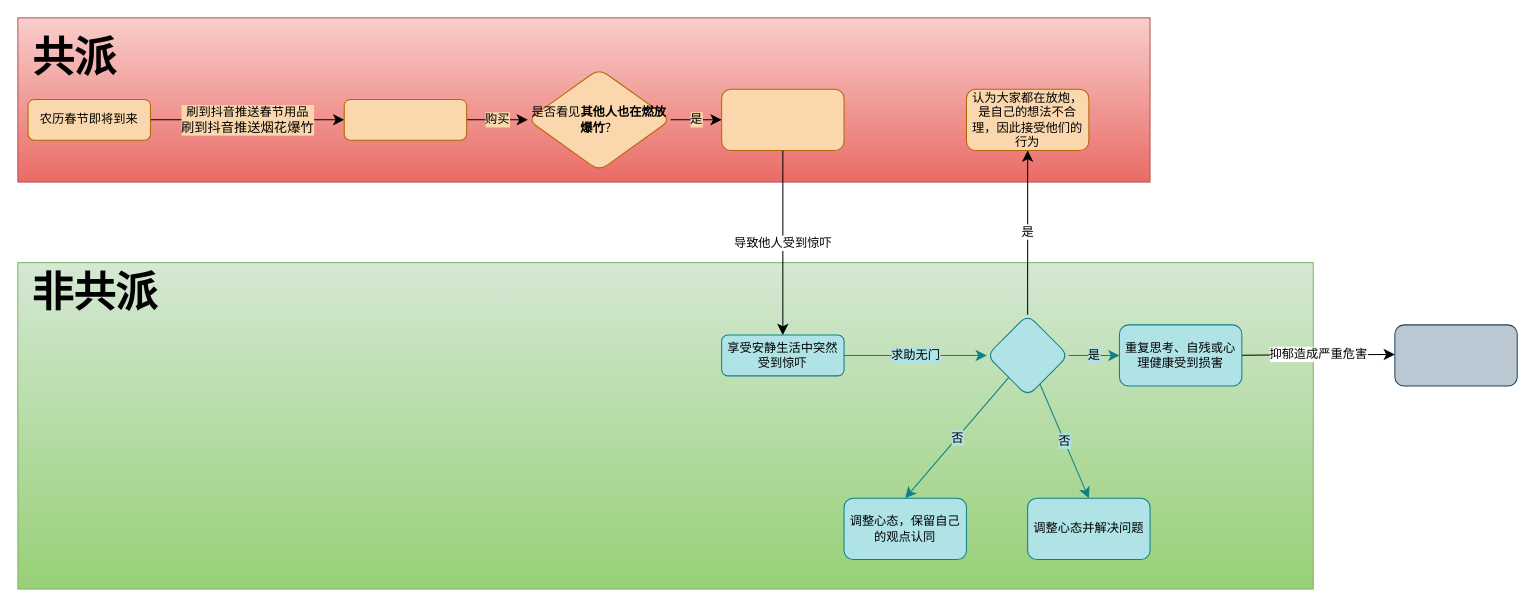
Image size: 1535x607. Some labels were removed from this diagram. Each missing label, with the centre of its shape:
不顾他人感受，不考虑是否惊吓他人， 直接燃放 ，过后离开现场: point 782,119
是否因此抑郁？: point 1027,355
看到超响爆竹售卖: point 405,119
被社会淘汰: point 1455,355
